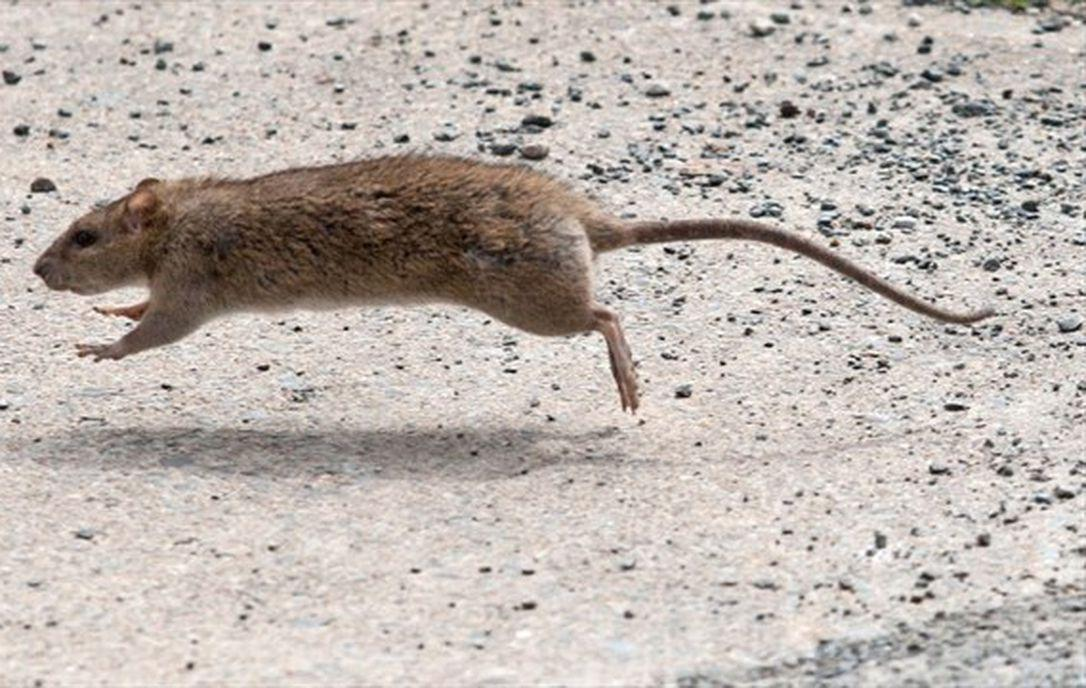rat: (34, 152, 999, 414)
